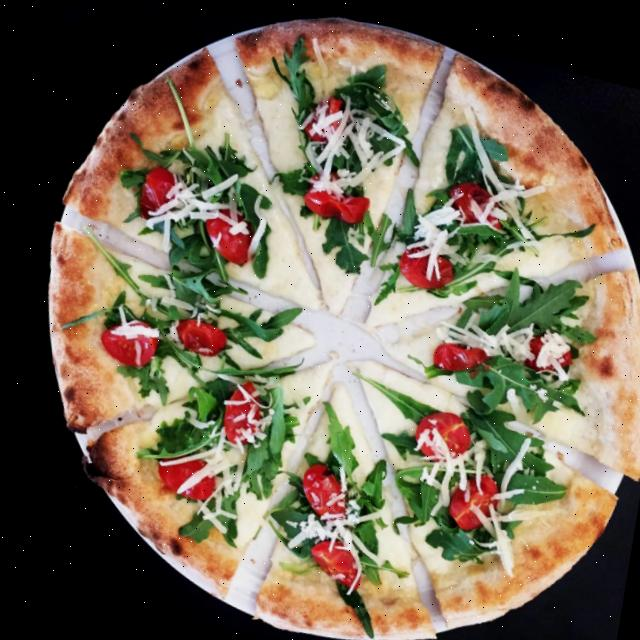pizza: (0, 0, 640, 640)
tomatoes: (145, 442, 215, 504), (89, 308, 157, 371), (406, 399, 472, 463), (296, 528, 361, 589), (438, 463, 496, 531), (299, 168, 372, 222), (196, 200, 256, 265), (390, 235, 457, 293), (211, 373, 263, 445), (288, 456, 345, 518), (440, 173, 505, 226), (130, 160, 182, 225), (162, 310, 226, 358), (421, 330, 487, 376), (513, 324, 570, 373), (299, 88, 344, 143)
